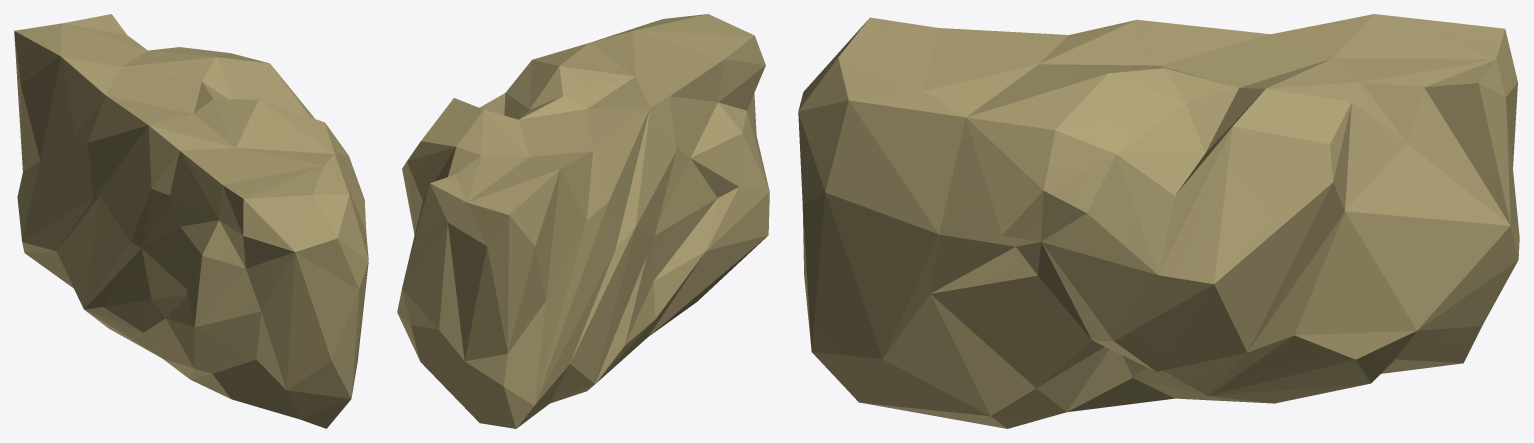
Rendered from SM_rock_62.fbx.
The picture shows the model from 3 angles, left to right: view 1: azimuth 30°, elevation 25°; view 2: azimuth 150°, elevation 25°; view 3: azimuth 270°, elevation 25°; orthographic projection. The views are drawn at different scales.
Parts seen in each view (by area): view 1: rock_62; view 2: rock_62; view 3: rock_62.
Part boxes in pixels (x1,y1,x2,y2): rock_62: (14,14,368,428); rock_62: (397,14,769,428); rock_62: (798,14,1519,428).
Size of the model in its own units: 112 by 113 by 207.
